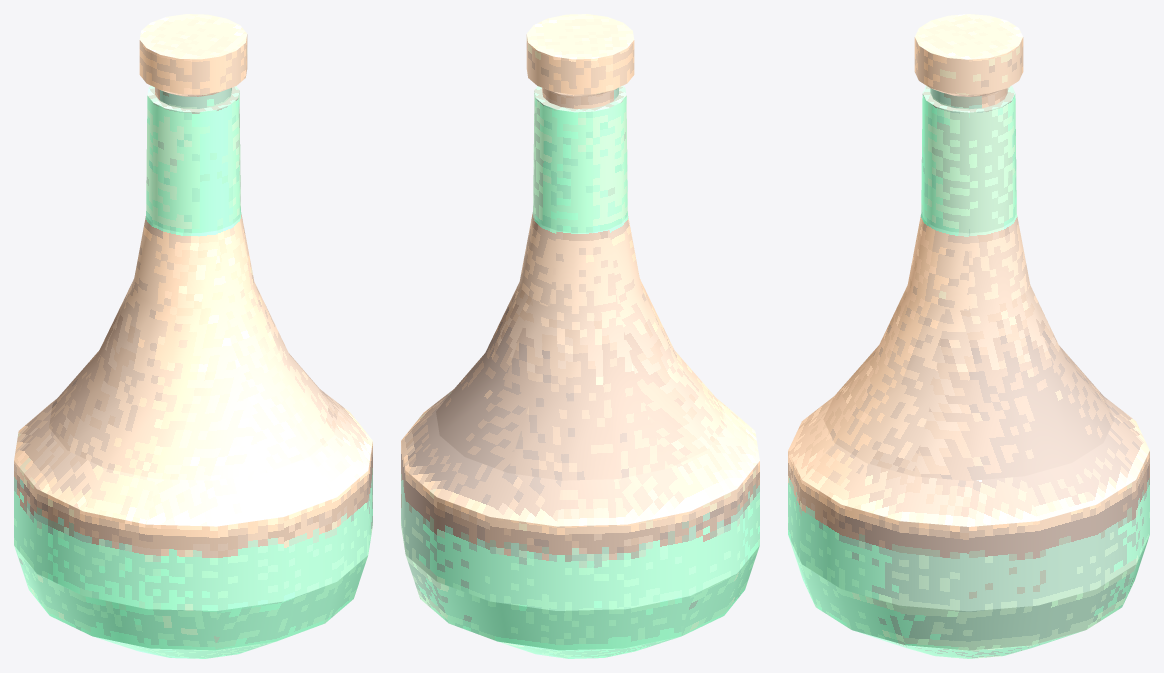
The model's file is potion_var2.glb.
The picture shows the model from 3 angles, left to right: view 1: azimuth 30°, elevation 25°; view 2: azimuth 150°, elevation 25°; view 3: azimuth 270°, elevation 25°; orthographic projection.
Visible parts, largest first — view 1: Potion_Var_2; view 2: Potion_Var_2; view 3: Potion_Var_2.
Boxes of the visible parts, x1,y1,x2,y2 form: Potion_Var_2: (14,14,372,658); Potion_Var_2: (401,14,759,658); Potion_Var_2: (788,14,1149,658).
Size of the model in its own units: 0.9609 by 1.71 by 0.9609.
